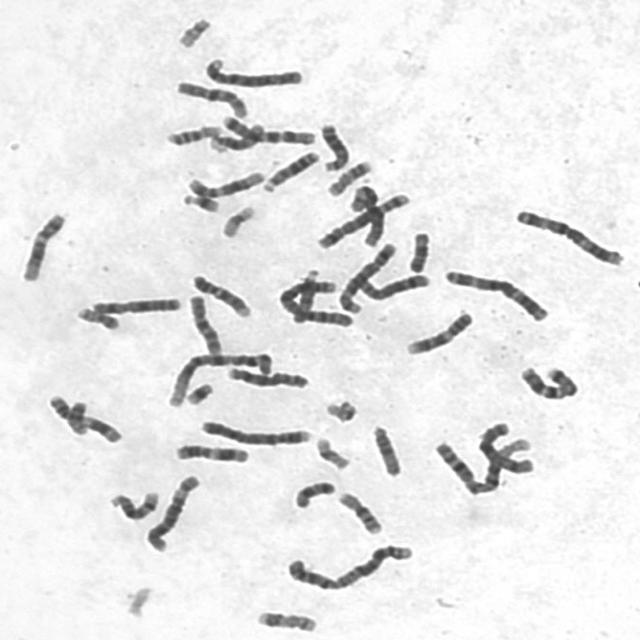A1: (161, 348, 275, 408), (428, 433, 535, 496)
A2: (280, 539, 416, 593), (274, 272, 355, 330)
A3: (508, 204, 626, 267), (439, 264, 552, 324)
B4: (196, 415, 314, 448), (199, 53, 306, 89)
B5: (311, 188, 413, 250), (332, 238, 400, 315)
C10: (171, 76, 251, 120), (183, 290, 225, 357)
C11: (42, 389, 125, 445), (170, 439, 252, 465)
C12: (15, 207, 68, 283), (182, 166, 267, 199)
C6: (140, 469, 202, 554), (349, 184, 388, 249)
C7: (216, 111, 317, 146), (514, 361, 582, 402)
C8: (351, 268, 432, 302), (222, 363, 312, 390)
C9: (401, 307, 475, 357), (186, 270, 253, 319)
D13: (258, 145, 322, 193), (314, 118, 352, 173)
D14: (103, 486, 162, 523), (205, 120, 266, 153)
D15: (366, 420, 404, 478), (288, 268, 321, 326)
E16: (333, 488, 384, 536), (161, 120, 224, 147)
E17: (322, 155, 375, 198), (252, 606, 319, 634)
E18: (288, 476, 338, 510), (403, 227, 432, 274)
F19: (215, 200, 258, 240), (310, 432, 352, 471)
F20: (71, 302, 122, 332), (65, 400, 90, 436)
G21: (178, 189, 222, 215), (182, 377, 216, 406)
G22: (172, 12, 214, 49), (320, 395, 360, 424)
X: (473, 416, 536, 476), (86, 292, 184, 315)
